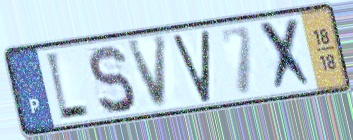7: (218, 23, 255, 99)
L: (42, 49, 92, 125)
S: (86, 43, 137, 117)
V: (124, 32, 169, 112), (171, 26, 212, 105)
X: (257, 14, 317, 96)
